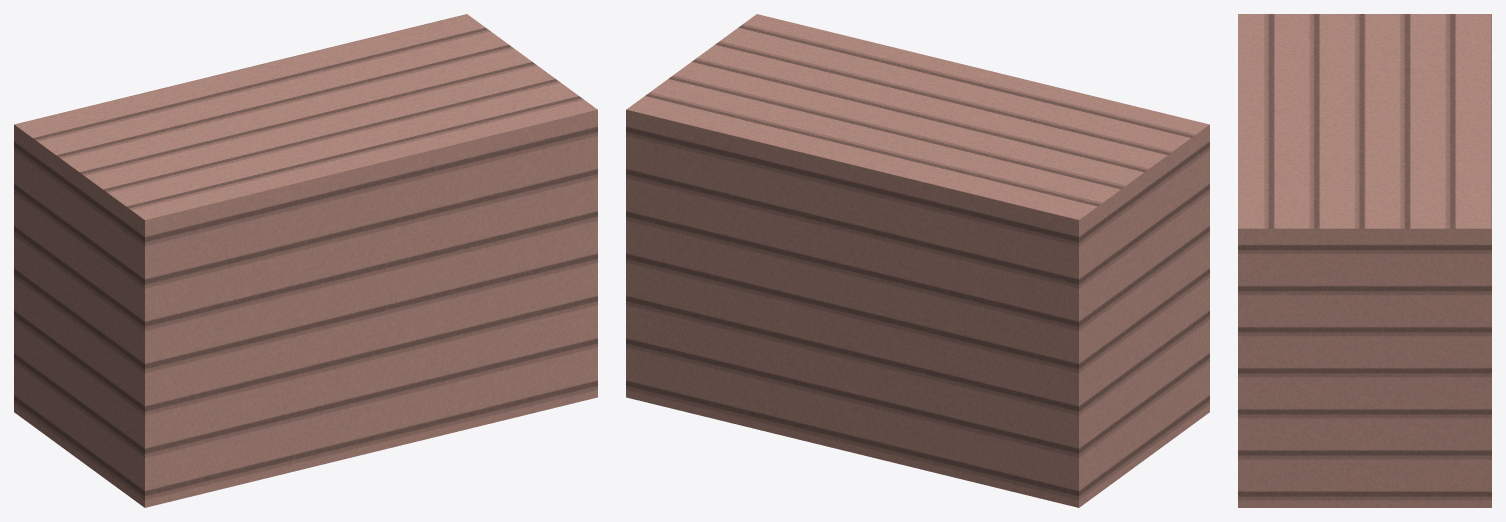
Rendered from chest_freezer.glb.
3 views of the same model, side by side, from view 1: azimuth 30°, elevation 25°; view 2: azimuth 150°, elevation 25°; view 3: azimuth 270°, elevation 25° (orthographic). The views are drawn at different scales.
Parts seen in each view (by area): view 1: chest_freezer-col; view 2: chest_freezer-col; view 3: chest_freezer-col.
Part boxes in pixels (x1,y1,x2,y2): chest_freezer-col: (14,14,597,507); chest_freezer-col: (626,14,1209,507); chest_freezer-col: (1238,14,1491,507).
Bounding box in the file's own units: 1.4 × 0.85 × 0.7.
1 material, 1 textured.
